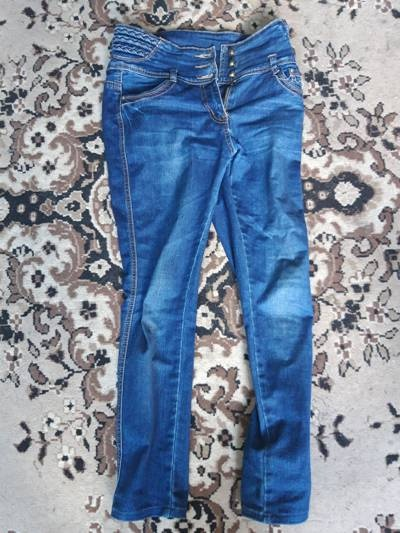Pants: (79, 17, 351, 507)
